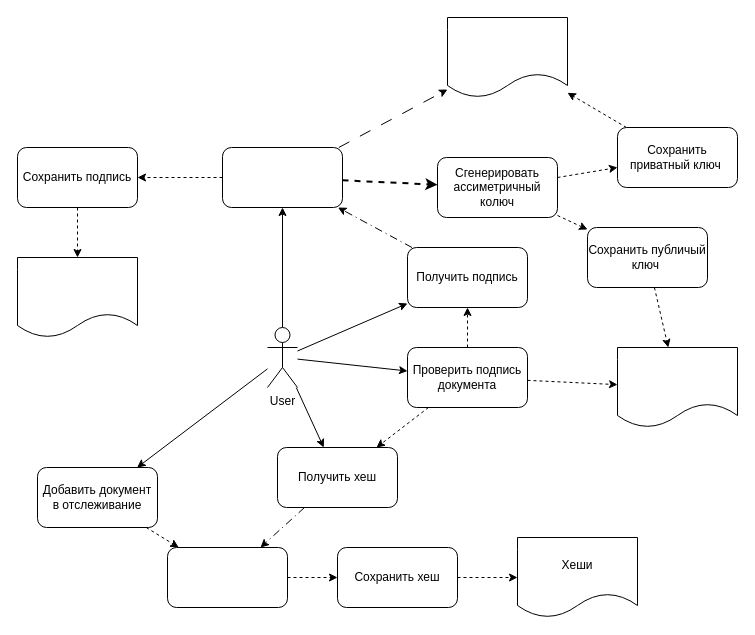
Some shapes in this 755 by 635 pixel diagram are drawn without their labels. The centre of each missing label's shape, as x and y in pixels:
"Подписать документ" belongs at point (282, 177).
"Подписи" belongs at point (77, 297).
"Приватные ключи" belongs at point (507, 57).
"Публичные ключи" belongs at point (677, 387).
"Сгенерировать хеш" belongs at point (227, 577).
